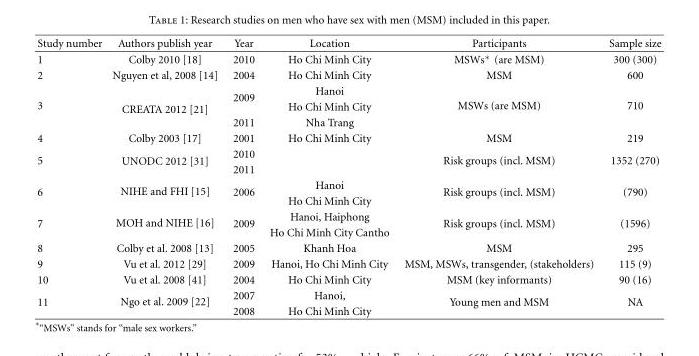table: (36, 36, 660, 316)
table column: (396, 36, 600, 316), (261, 36, 396, 316), (106, 36, 224, 316), (36, 36, 106, 316), (600, 36, 660, 316), (224, 36, 261, 316)
table column header: (36, 36, 660, 50)
table row: (36, 50, 660, 66), (36, 66, 660, 82), (36, 82, 660, 98), (36, 98, 660, 114), (36, 129, 660, 145), (36, 145, 660, 161), (36, 161, 660, 177), (36, 192, 660, 208), (36, 208, 660, 224), (36, 239, 660, 255), (36, 255, 660, 271), (36, 271, 660, 287), (36, 114, 660, 129), (36, 177, 660, 192), (36, 224, 660, 239), (36, 287, 660, 302), (36, 36, 660, 50), (36, 302, 660, 316)
table spanning cell: (396, 82, 600, 129), (396, 145, 600, 177), (396, 177, 600, 208), (396, 208, 600, 239), (396, 287, 600, 316), (106, 82, 224, 129), (106, 145, 224, 177), (106, 177, 224, 208), (106, 208, 224, 239), (106, 287, 224, 316), (36, 82, 106, 129), (600, 82, 660, 129), (36, 145, 106, 177), (36, 177, 106, 208), (36, 208, 106, 239), (36, 287, 106, 316), (600, 145, 660, 177), (600, 177, 660, 208), (600, 208, 660, 239), (600, 287, 660, 316), (224, 82, 261, 114), (224, 177, 261, 208), (224, 208, 261, 239)
